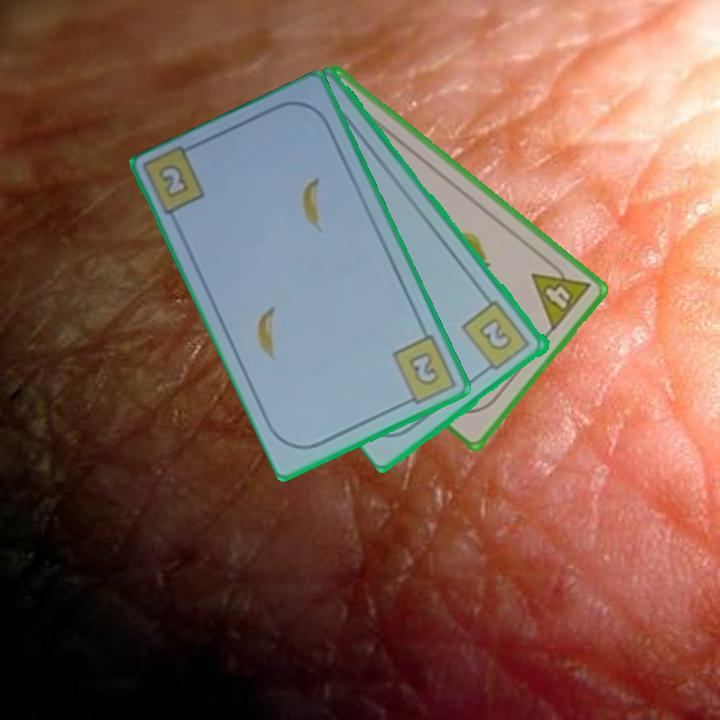2b: (459, 297, 534, 376), (389, 331, 459, 410), (154, 160, 192, 202)
4p: (528, 254, 594, 334)
